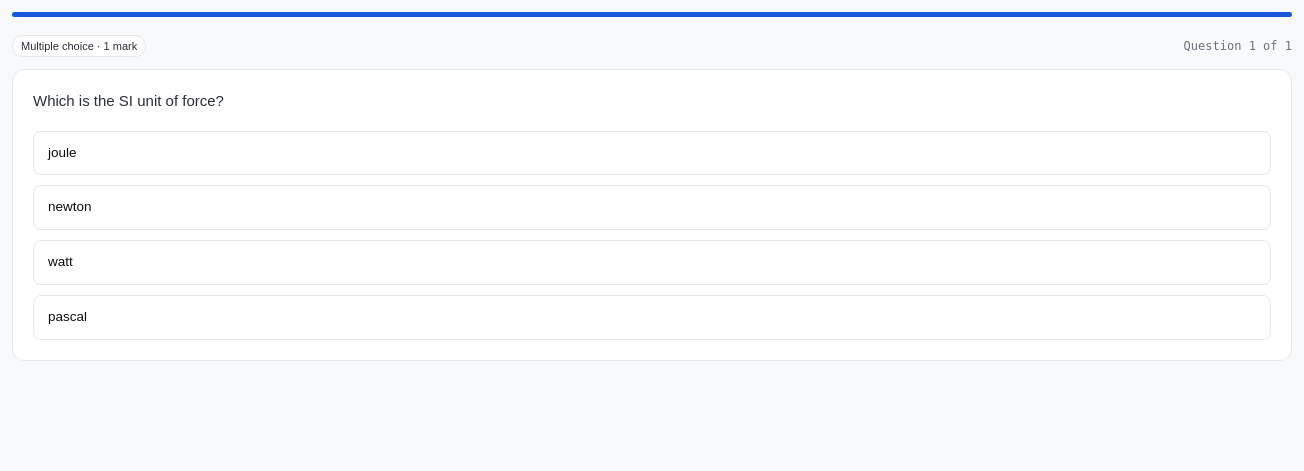
Test: unsaved results go to the outbox and are retried (FR-008, FR-009) › shows 'saving' while a receipt is waiting, and says nothing is lost until it finally is
Click the button "newton".
click(70, 207)  # box [33,185,1271,230]
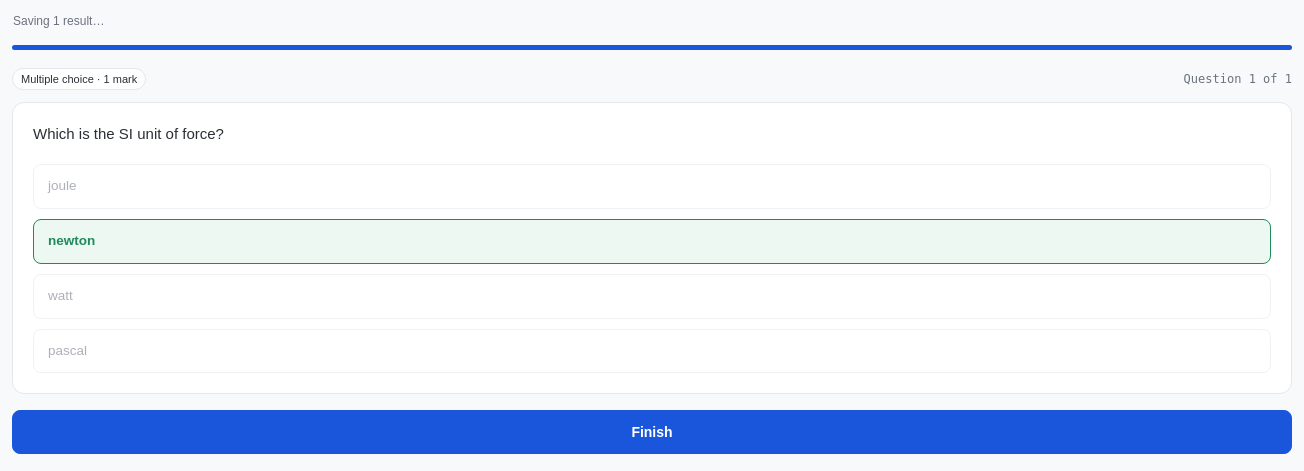
Check: the button "Finish" is shown, box [12,410,1292,454]
Check: the text "Saving 1 result…" is shown, box [13,14,104,28]
